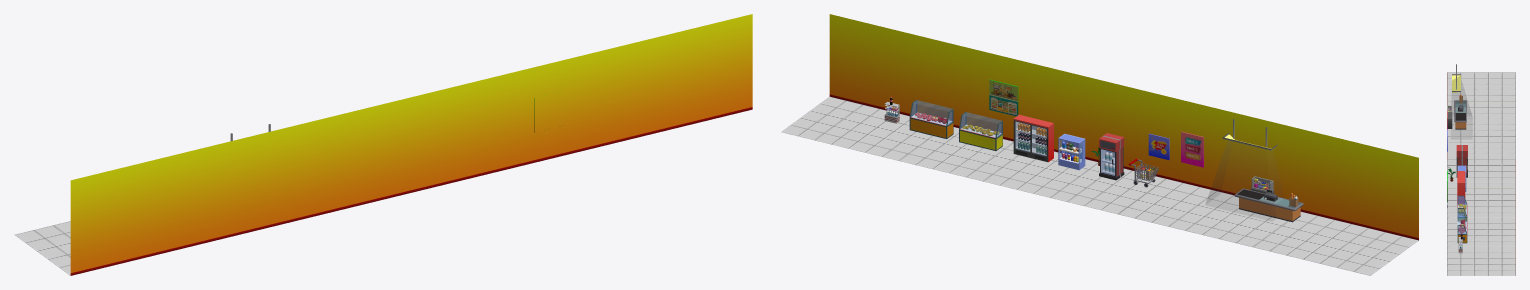
Rendered from market1.fbx.
The picture shows the model from 3 angles, left to right: view 1: azimuth 30°, elevation 25°; view 2: azimuth 150°, elevation 25°; view 3: azimuth 270°, elevation 25°; orthographic projection. The views are drawn at different scales.
Parts seen in each view (by area): view 1: Plane; view 2: Plane, cash_register, big_fridge, showcase_meat, showcase_cheese, fridge, stillage1, lamp, cart; view 3: Plane, cash_register, lamp, showcase_meat, fridge, big_fridge, showcase_cheese, stillage1, stillage.
Boxes of the visible parts, x1,y1,x2,y2 form: Plane: (14,14,752,275); Plane: (781,14,1418,275); cash_register: (1234,176,1303,222); big_fridge: (1013,114,1053,162); showcase_meat: (909,100,953,138); showcase_cheese: (959,112,1002,150); fridge: (1099,133,1124,180); stillage1: (1058,133,1085,170); lamp: (1206,119,1277,203); cart: (1128,158,1158,187); Plane: (1447,72,1515,275); cash_register: (1447,100,1466,129); lamp: (1452,64,1471,116); showcase_meat: (1457,212,1467,243); fridge: (1456,145,1467,177); big_fridge: (1457,171,1465,207); showcase_cheese: (1457,195,1467,220); stillage1: (1457,165,1466,191); stillage: (1458,237,1462,253).
Bounding box in the file's own units: 4933 × 661 × 705.
Materials: 3 (3 with a texture image).
